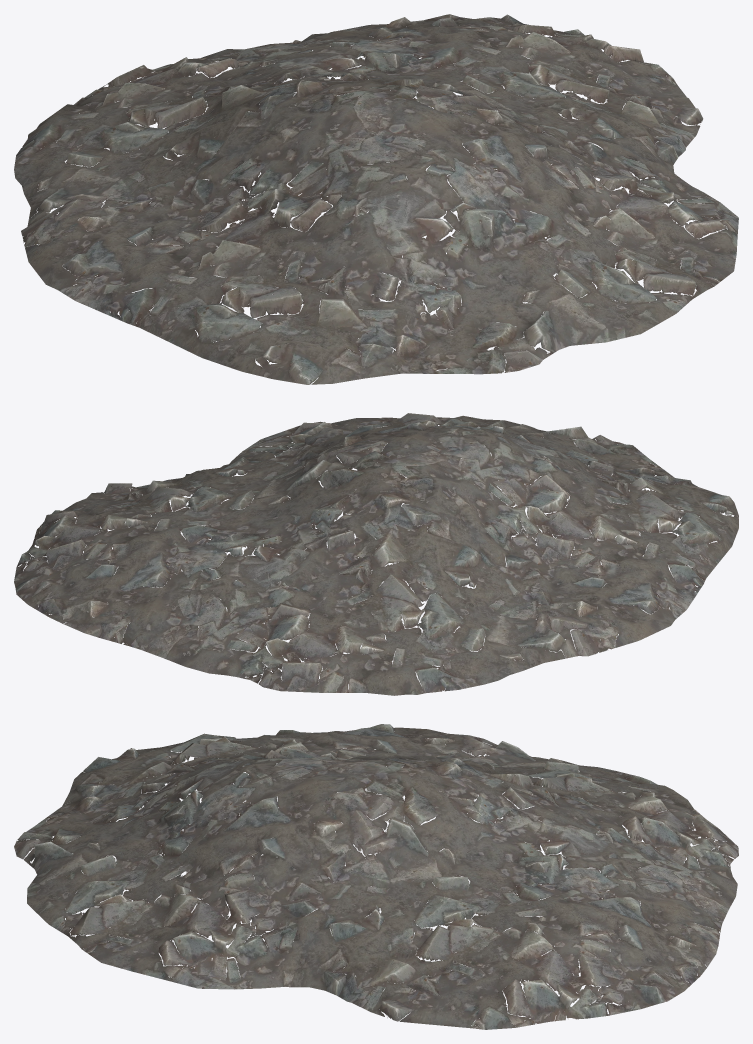
3 views of the same model, one above another, from view 1: azimuth 30°, elevation 25°; view 2: azimuth 150°, elevation 25°; view 3: azimuth 270°, elevation 25° (orthographic). The views are drawn at different scales.
Parts seen in each view (by area): view 1: SM_SaradominTemple_Rubble_02_v4_LOD0; view 2: SM_SaradominTemple_Rubble_02_v4_LOD0; view 3: SM_SaradominTemple_Rubble_02_v4_LOD0.
Boxes of the visible parts, bbox=[...] form: SM_SaradominTemple_Rubble_02_v4_LOD0: bbox=[14, 14, 738, 384]; SM_SaradominTemple_Rubble_02_v4_LOD0: bbox=[14, 413, 738, 695]; SM_SaradominTemple_Rubble_02_v4_LOD0: bbox=[14, 724, 738, 1029].
Size of the model in its own units: 7.44 by 1.17 by 7.59.
Materials: 1 (1 with a texture image).
